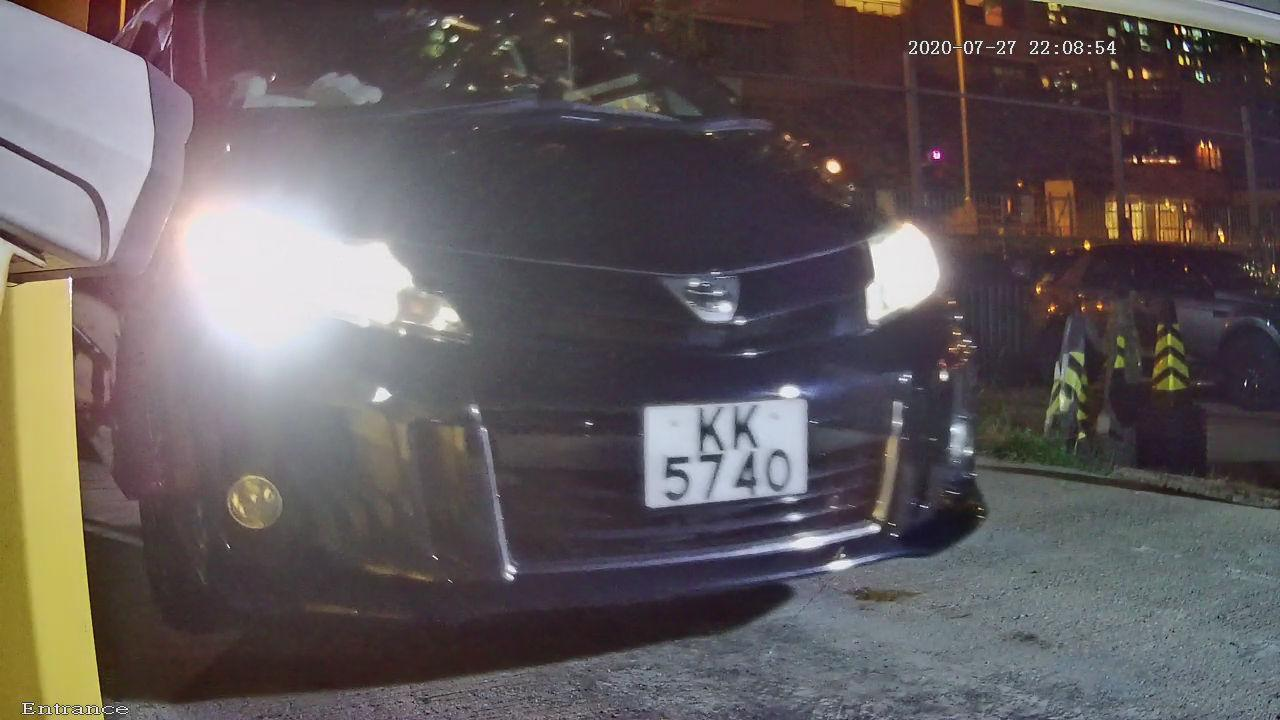privatecar: (69, 1, 1046, 695)
